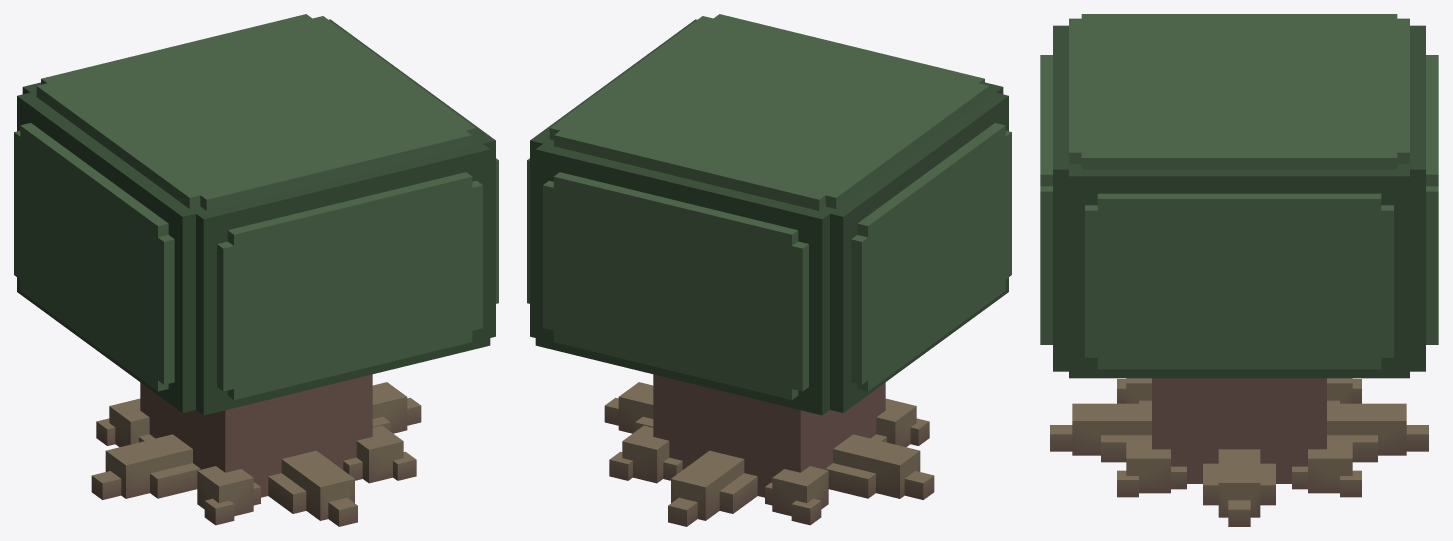
File: Model_Tree_03__04_green_n_green_w_apples.fbx
3 renders of one model, left to right at view 1: azimuth 30°, elevation 25°; view 2: azimuth 150°, elevation 25°; view 3: azimuth 270°, elevation 25°, orthographic. The views are drawn at different scales.
Visible parts, largest first — view 1: Tree 03 GreenCleaned; view 2: Tree 03 GreenCleaned; view 3: Tree 03 GreenCleaned.
Part boxes in pixels (x1,y1,x2,y2): Tree 03 GreenCleaned: [14, 14, 498, 526]; Tree 03 GreenCleaned: [527, 14, 1011, 526]; Tree 03 GreenCleaned: [1040, 14, 1438, 526].
Size of the model in its own units: 1250 by 1250 by 1250.
